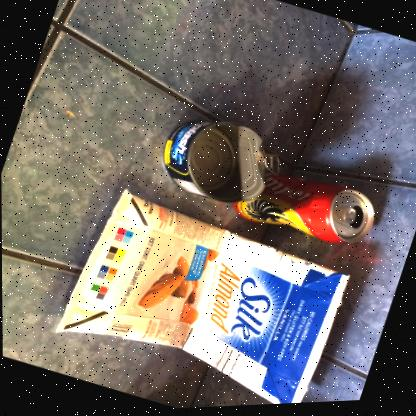Metal: (233, 174, 374, 246), (164, 121, 280, 205), (265, 155, 279, 177), (343, 209, 356, 226)
Paper: (56, 190, 350, 407)
